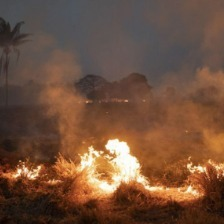incendio: (1, 143, 223, 209)
